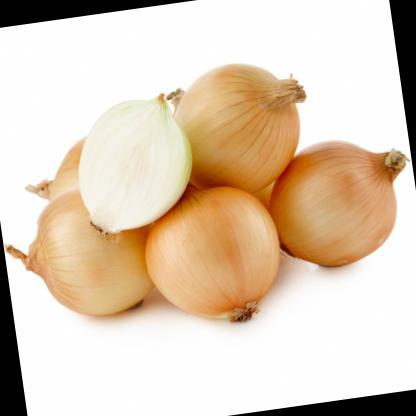onion: (132, 178, 289, 340), (263, 123, 409, 275)
